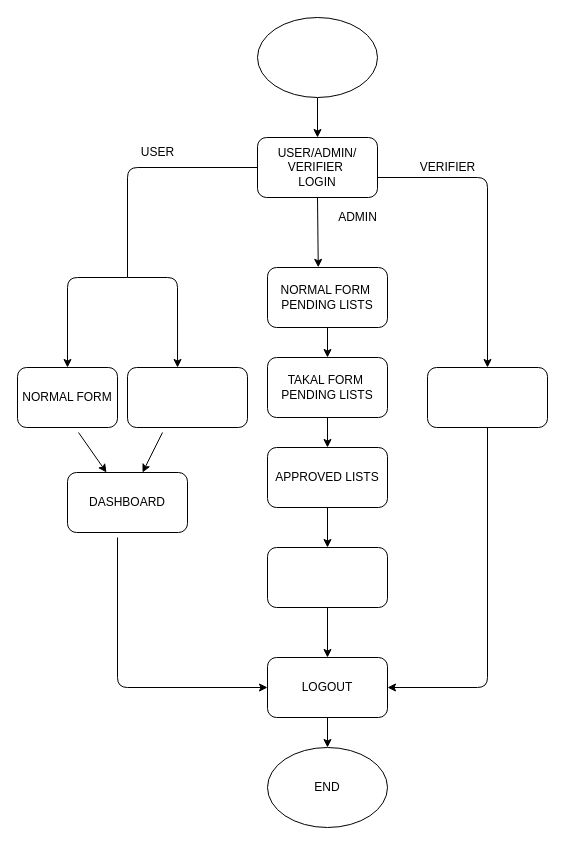
Image size: 565x845. Some labels were removed from this diagram. Each missing label, with the centre of its shape:
PASSED LISTS: point (327, 577)
START: point (317, 57)
TAKAL FORM: point (187, 397)
VERIFIYING LISTS: point (487, 397)
